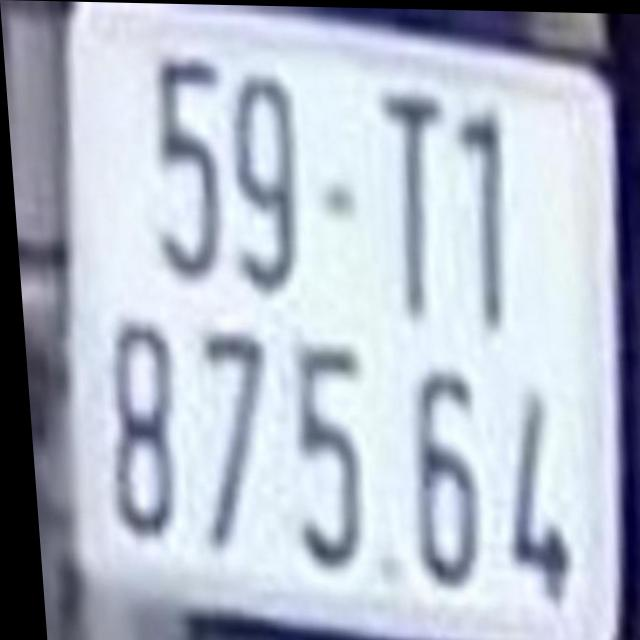1: (454, 101, 509, 323)
4: (498, 388, 565, 596)
5: (287, 334, 360, 568), (150, 53, 222, 277)
6: (403, 363, 470, 579)
7: (193, 326, 267, 540)
8: (104, 318, 175, 538)
9: (228, 67, 299, 289)
T: (376, 87, 450, 321)
